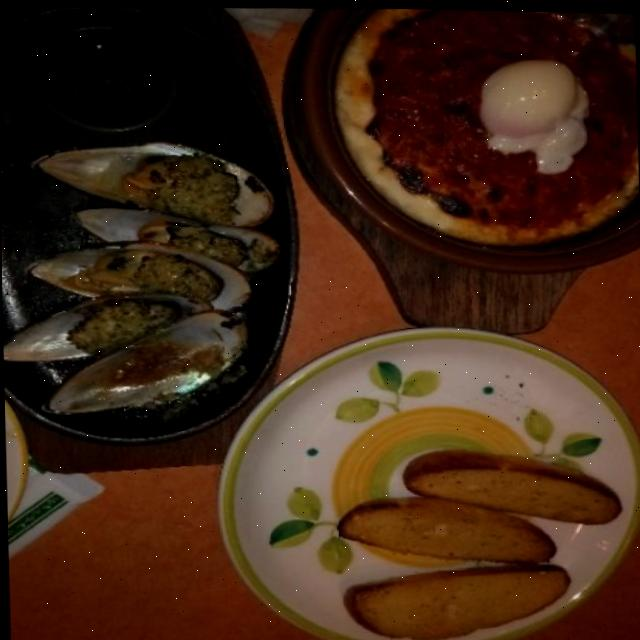汉堡快餐: (292, 5, 640, 273)
面包点心: (193, 302, 640, 640)
